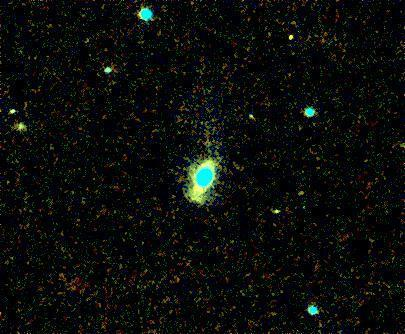star: (278, 24, 308, 54)
